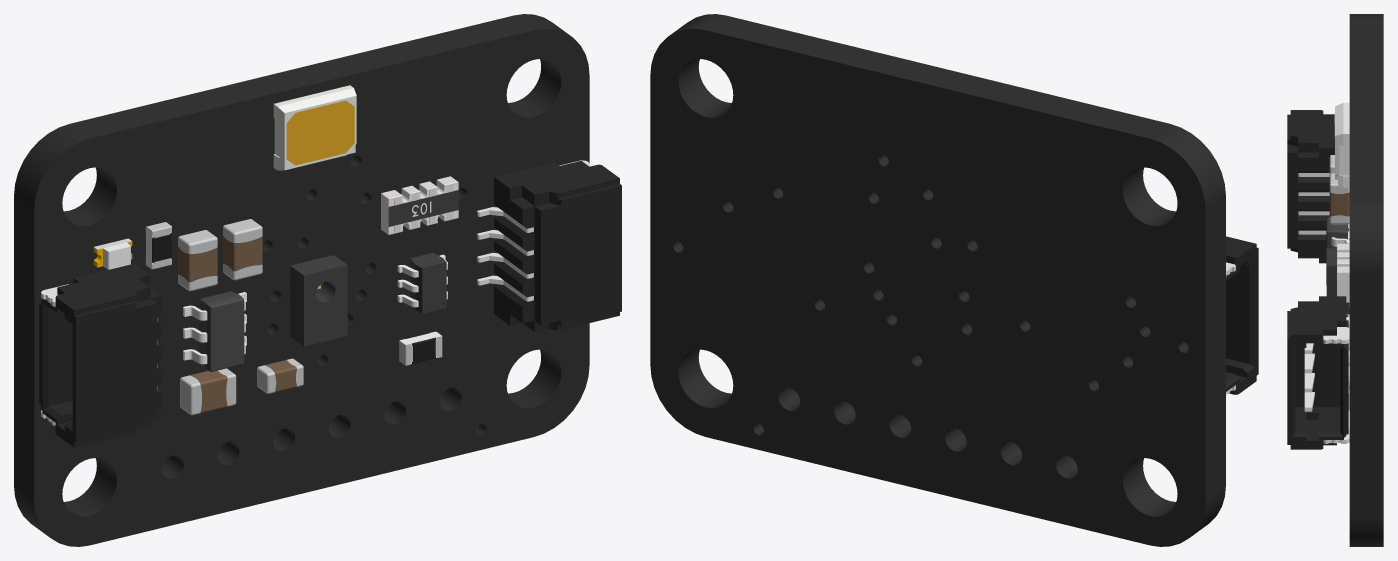
Rendered from Adafruit AS7341 STEMMA QT.fbx.
The picture shows the model from 3 angles, left to right: view 1: azimuth 30°, elevation 25°; view 2: azimuth 150°, elevation 25°; view 3: azimuth 270°, elevation 25°; orthographic projection. The views are drawn at different scales.
Visible parts, largest first — view 1: Body1 (×7), Body7 (×3), Body2, LED, LED Body, Body3 (×2); view 2: Body1, Body7; view 3: Body1 (×4), Body7 (×2), LED Body, Body2 (×2), Body6 (×2), Body5, Body3, Body4.
Part boxes in pixels (left/top/right/bottom): Body1 (×7): left=14, top=14, right=589, bottom=546; Body7 (×3): left=39, top=160, right=621, bottom=447; Body2: left=292, top=256, right=347, bottom=346; LED: left=286, top=100, right=354, bottom=165; LED Body: left=274, top=85, right=356, bottom=170; Body3 (×2): left=146, top=227, right=441, bottom=363; Body1: left=650, top=14, right=1225, bottom=546; Body7: left=1226, top=236, right=1258, bottom=394; Body1 (×4): left=1326, top=14, right=1383, bottom=546; Body7 (×2): left=1287, top=110, right=1348, bottom=449; LED Body: left=1335, top=102, right=1349, bottom=187; Body2 (×2): left=1304, top=248, right=1349, bottom=411; Body6 (×2): left=1298, top=211, right=1349, bottom=373; Body5: left=1323, top=327, right=1349, bottom=343; Body3: left=1304, top=355, right=1349, bottom=392; Body4: left=1298, top=230, right=1349, bottom=235.
Size of the model in its own units: 25.4 by 17.78 by 4.55.
